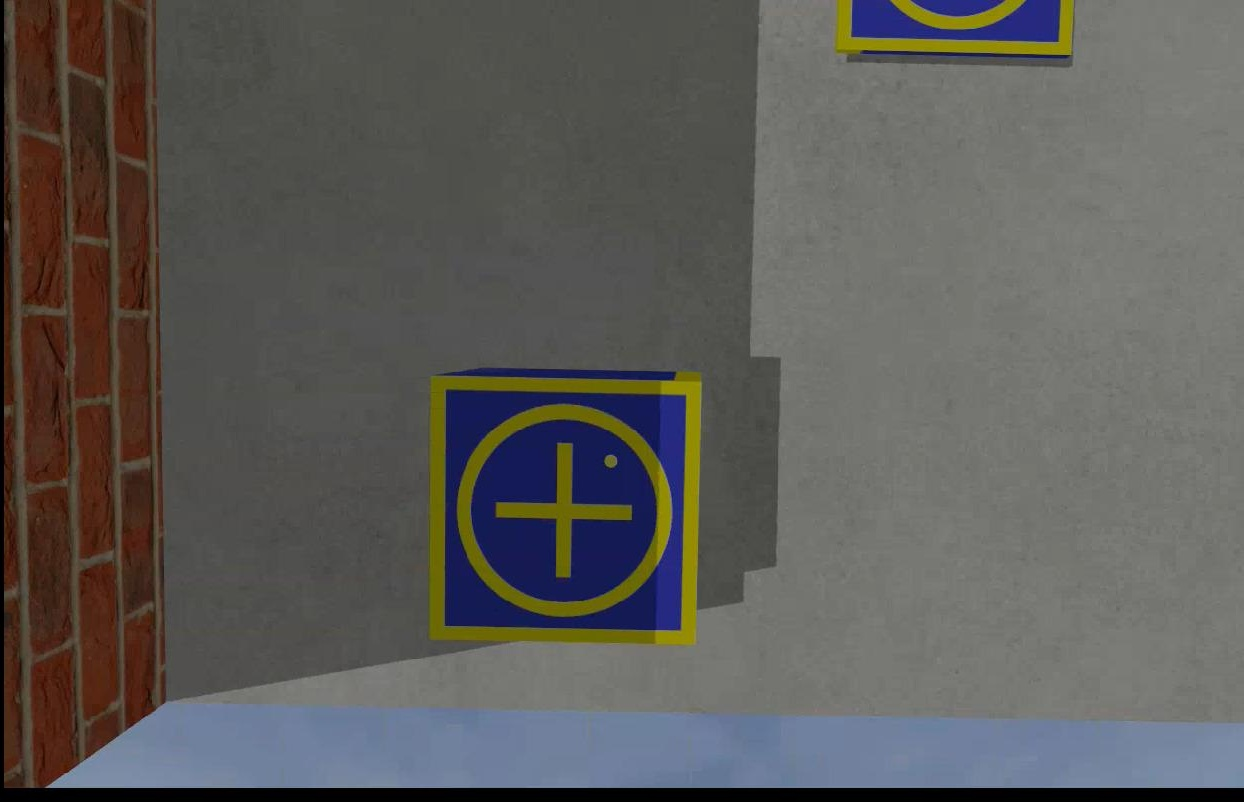small_base: (431, 378, 700, 650), (834, 1, 1076, 60)
